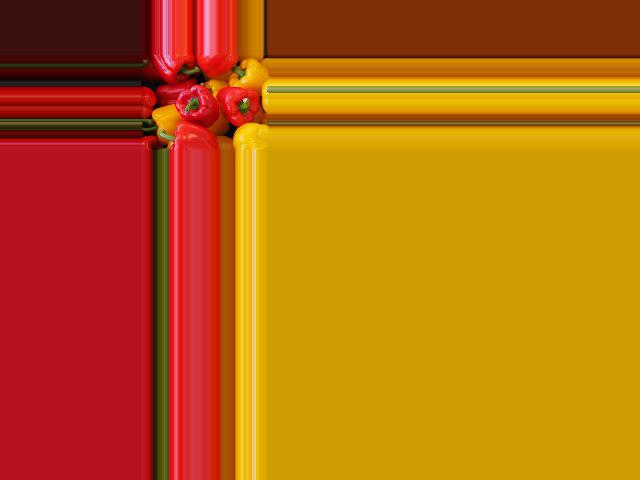bell_pepper: (232, 61, 268, 92)
